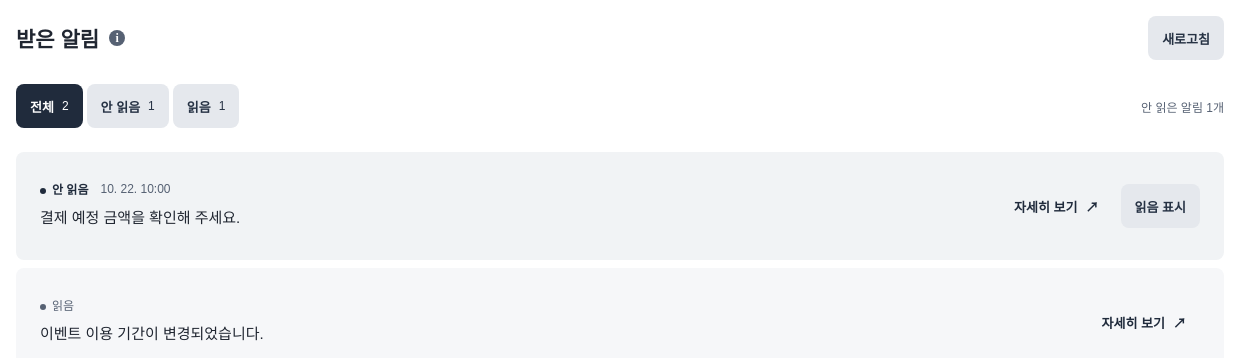
personal workspace notices › uses actual readAt values for states, counts and filters
This screenshot has width=1241, height=358.
expect the text "결제 예정 금액을 확인해 주세요." is shown: met, box 40,209 -> 240,226
expect the text "안 읽은 알림 1개" is shown: met, box 1141,98 -> 1224,114
Click the button "안 읽음 1" at (128, 106), box 87,84 -> 169,128
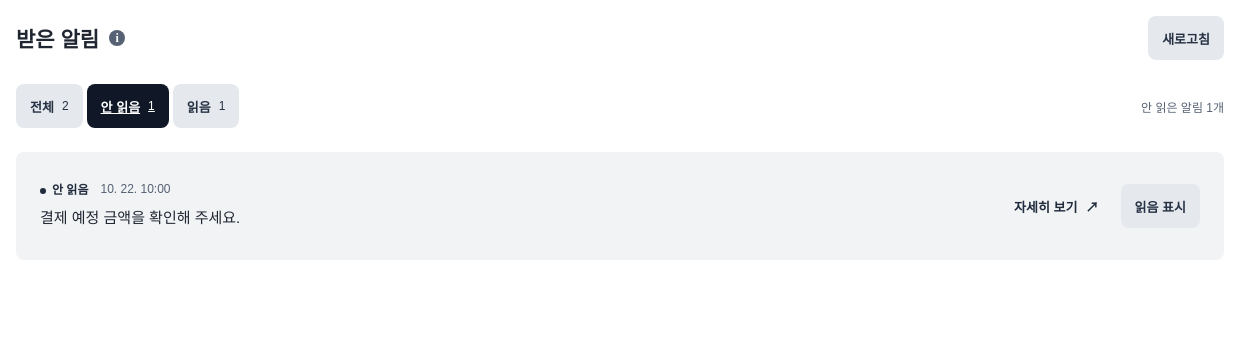
expect the text "결제 예정 금액을 확인해 주세요." is shown: met, box 40,209 -> 240,226
expect the text "이벤트 이용 기간이 변경되었습니다." is gone: met
Click the button "읽음 1" at (206, 106), box 173,84 -> 239,128
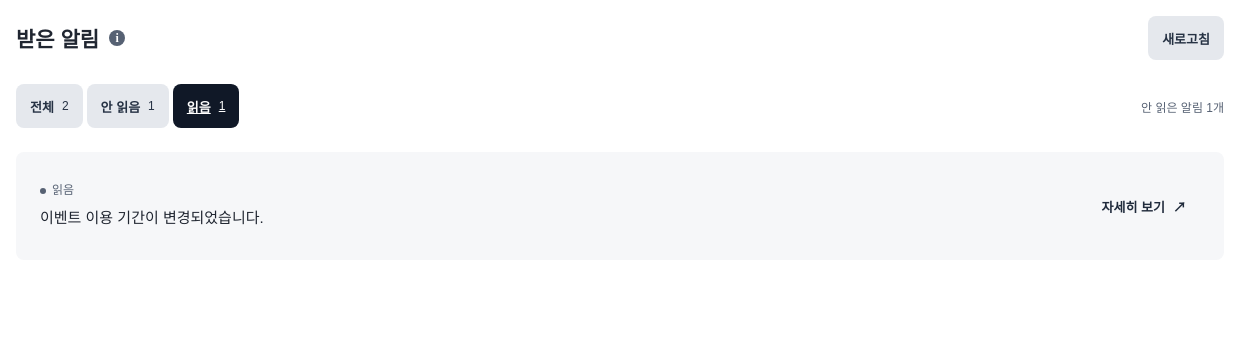
expect the text "이벤트 이용 기간이 변경되었습니다." is shown: met, box 40,209 -> 264,226
expect the text "결제 예정 금액을 확인해 주세요." is gone: met
expect the button "읽음 표시" is gone: met
